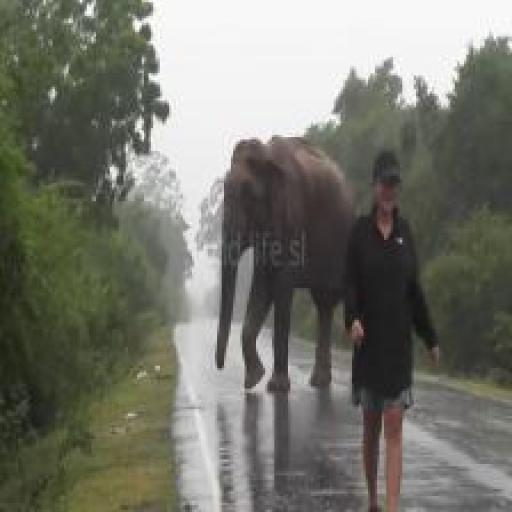Elephant: (217, 130, 346, 417)
